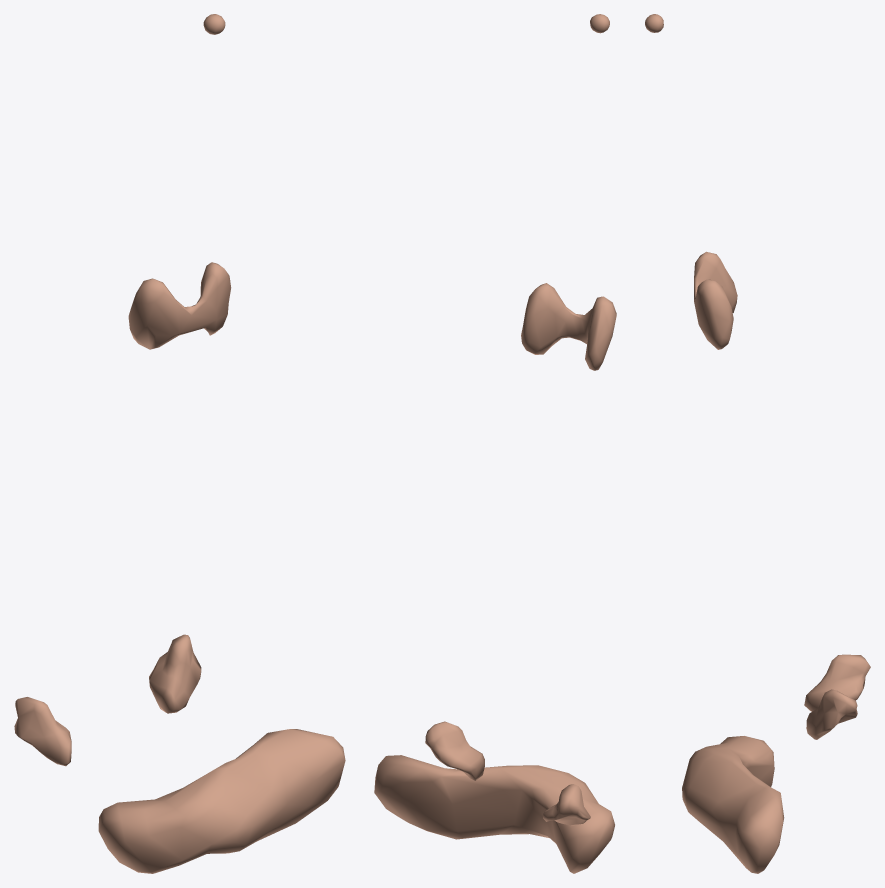
Rendered from pediatric_child_10y_male.endocrine.LOD2.glb.
The picture shows the model from 3 angles, left to right: view 1: azimuth 30°, elevation 25°; view 2: azimuth 150°, elevation 25°; view 3: azimuth 270°, elevation 25°; orthographic projection. The views are drawn at different scales.
Parts seen in each view (by area): view 1: PEDIATRIC.CHILD_10Y.MALE.ENDOCRINE.PANCREAS, PEDIATRIC.CHILD_10Y.MALE.ENDOCRINE.THYROID, PEDIATRIC.CHILD_10Y.MALE.ENDOCRINE.ADRENAL.L, PEDIATRIC.CHILD_10Y.MALE.ENDOCRINE.ADRENAL.R; view 2: PEDIATRIC.CHILD_10Y.MALE.ENDOCRINE.PANCREAS, PEDIATRIC.CHILD_10Y.MALE.ENDOCRINE.THYROID, PEDIATRIC.CHILD_10Y.MALE.ENDOCRINE.ADRENAL.L, PEDIATRIC.CHILD_10Y.MALE.ENDOCRINE.ADRENAL.R; view 3: PEDIATRIC.CHILD_10Y.MALE.ENDOCRINE.PANCREAS, PEDIATRIC.CHILD_10Y.MALE.ENDOCRINE.THYROID, PEDIATRIC.CHILD_10Y.MALE.ENDOCRINE.ADRENAL.R, PEDIATRIC.CHILD_10Y.MALE.ENDOCRINE.ADRENAL.L.
Part boxes in pixels (x1,y1,x2,y2): PEDIATRIC.CHILD_10Y.MALE.ENDOCRINE.PANCREAS: (98,729,345,873); PEDIATRIC.CHILD_10Y.MALE.ENDOCRINE.THYROID: (128,262,231,349); PEDIATRIC.CHILD_10Y.MALE.ENDOCRINE.ADRENAL.L: (149,634,201,713); PEDIATRIC.CHILD_10Y.MALE.ENDOCRINE.ADRENAL.R: (14,697,71,766); PEDIATRIC.CHILD_10Y.MALE.ENDOCRINE.PANCREAS: (374,755,614,873); PEDIATRIC.CHILD_10Y.MALE.ENDOCRINE.THYROID: (521,283,616,370); PEDIATRIC.CHILD_10Y.MALE.ENDOCRINE.ADRENAL.L: (425,721,484,780); PEDIATRIC.CHILD_10Y.MALE.ENDOCRINE.ADRENAL.R: (543,784,590,825); PEDIATRIC.CHILD_10Y.MALE.ENDOCRINE.PANCREAS: (682,736,784,873); PEDIATRIC.CHILD_10Y.MALE.ENDOCRINE.THYROID: (694,251,737,349); PEDIATRIC.CHILD_10Y.MALE.ENDOCRINE.ADRENAL.R: (804,654,870,711); PEDIATRIC.CHILD_10Y.MALE.ENDOCRINE.ADRENAL.L: (806,689,857,739).
Bounding box in the file's own units: 0.1336 × 0.4039 × 0.1034.
